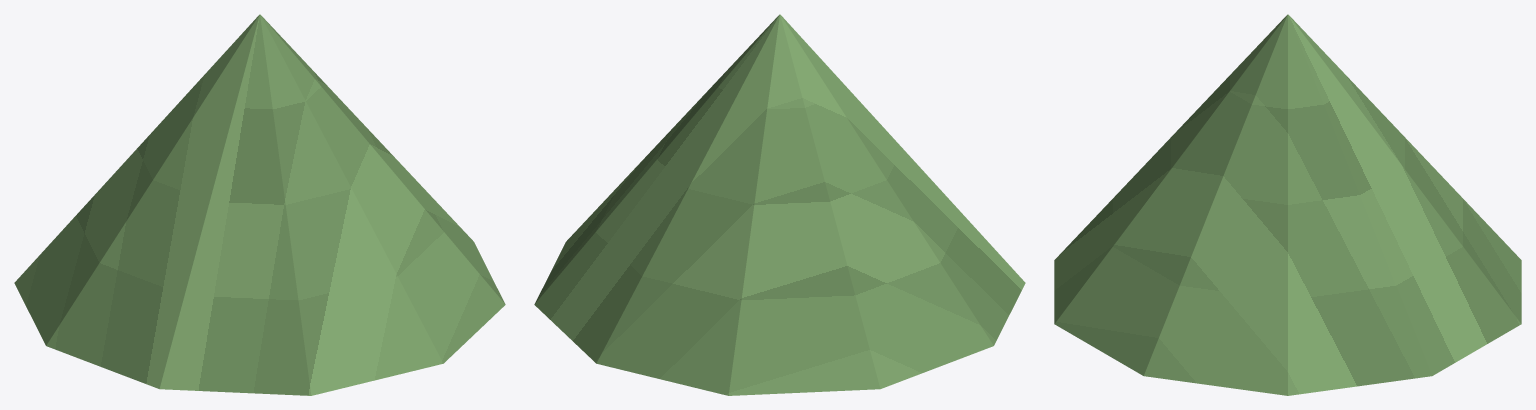
Rendered from fern_low.glb.
3 views of the same model, side by side, from view 1: azimuth 30°, elevation 25°; view 2: azimuth 150°, elevation 25°; view 3: azimuth 270°, elevation 25° (orthographic).
Bounding box in the file's own units: 0.8 × 0.5 × 0.7608.
1 material, 1 textured.
